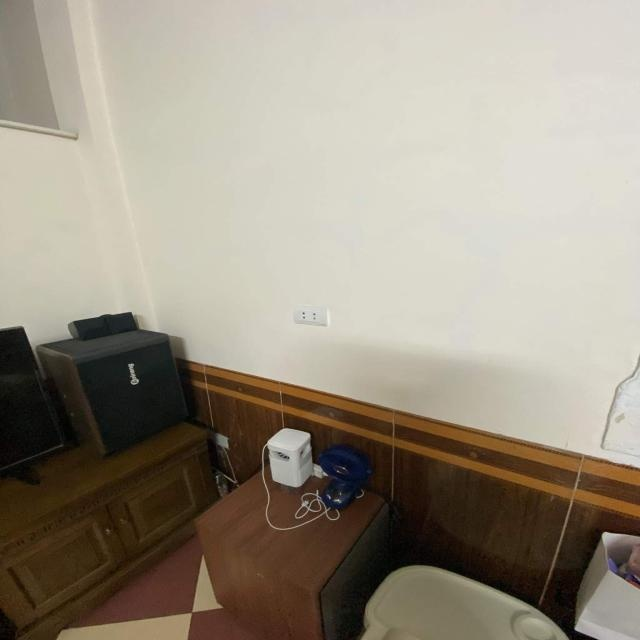outlet: (292, 307, 328, 325)
